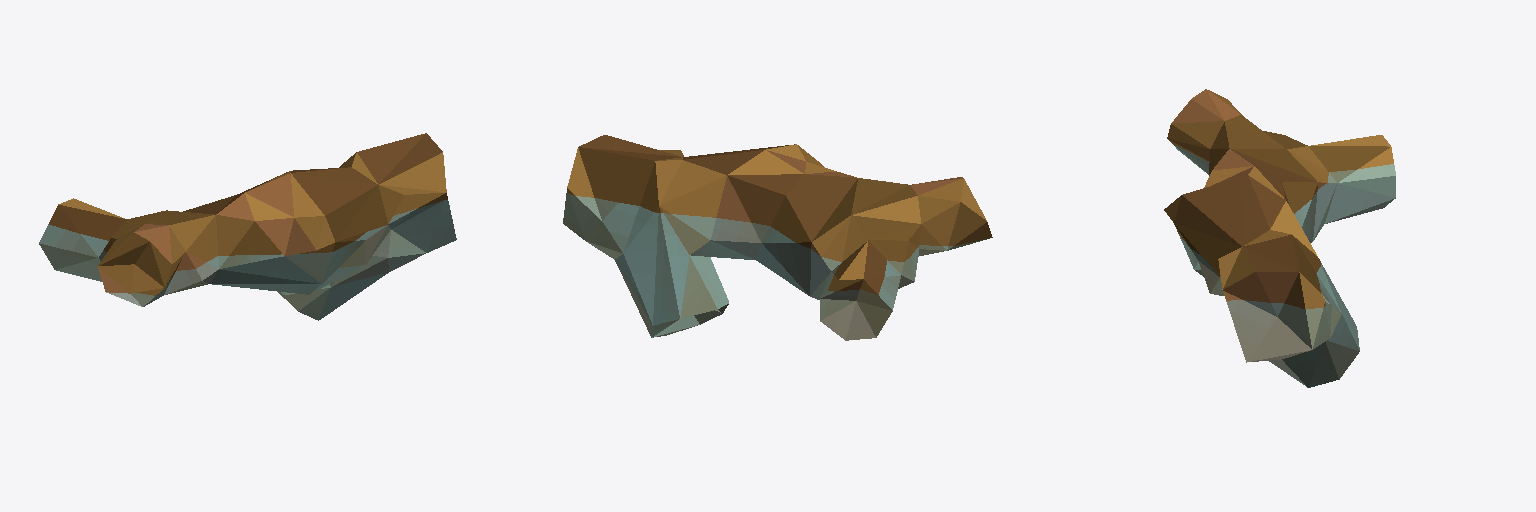
The picture shows the model from 3 angles: view 1: azimuth 30°, elevation 25°; view 2: azimuth 150°, elevation 25°; view 3: azimuth 270°, elevation 25°; orthographic projection.
Visible parts, largest first — view 1: 立方体; view 2: 立方体; view 3: 立方体.
Part boxes in pixels (x1,y1,x2,y2): 立方体: (39,133,456,320); 立方体: (563,135,992,340); 立方体: (1164,89,1395,387).
Bounding box in the file's own units: 2.67 × 1.22 × 1.42.
Materials: 1 (1 with a texture image).